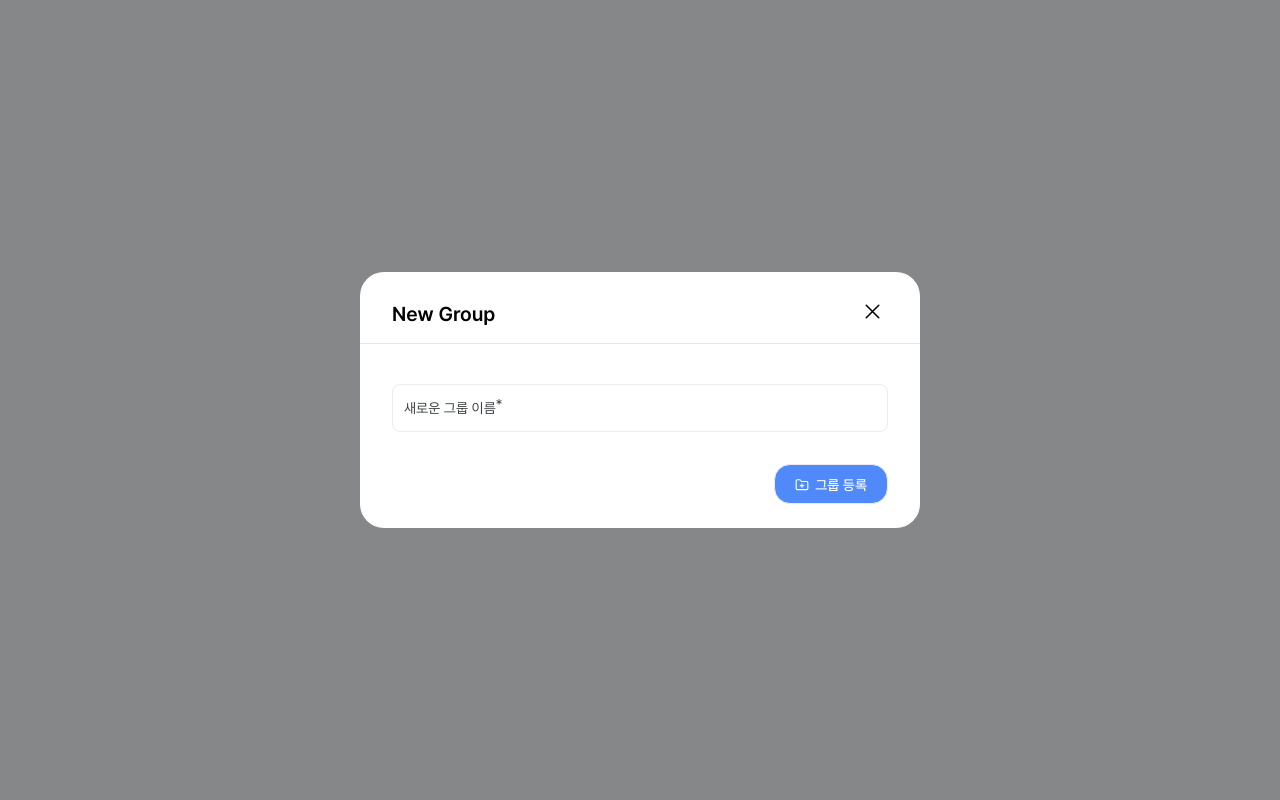
Test: CreateGroup 컴포넌트 단위 테스트 › 서버의 유효성 검사를 통과하지 못하면 에러 메시지가 렌더링 된다.
Type "중복된 그룹 이름" into the field labelled "새로운 그룹 이름".
click(640, 408); type("중복된 그룹 이름")  # box [392, 384, 888, 432]
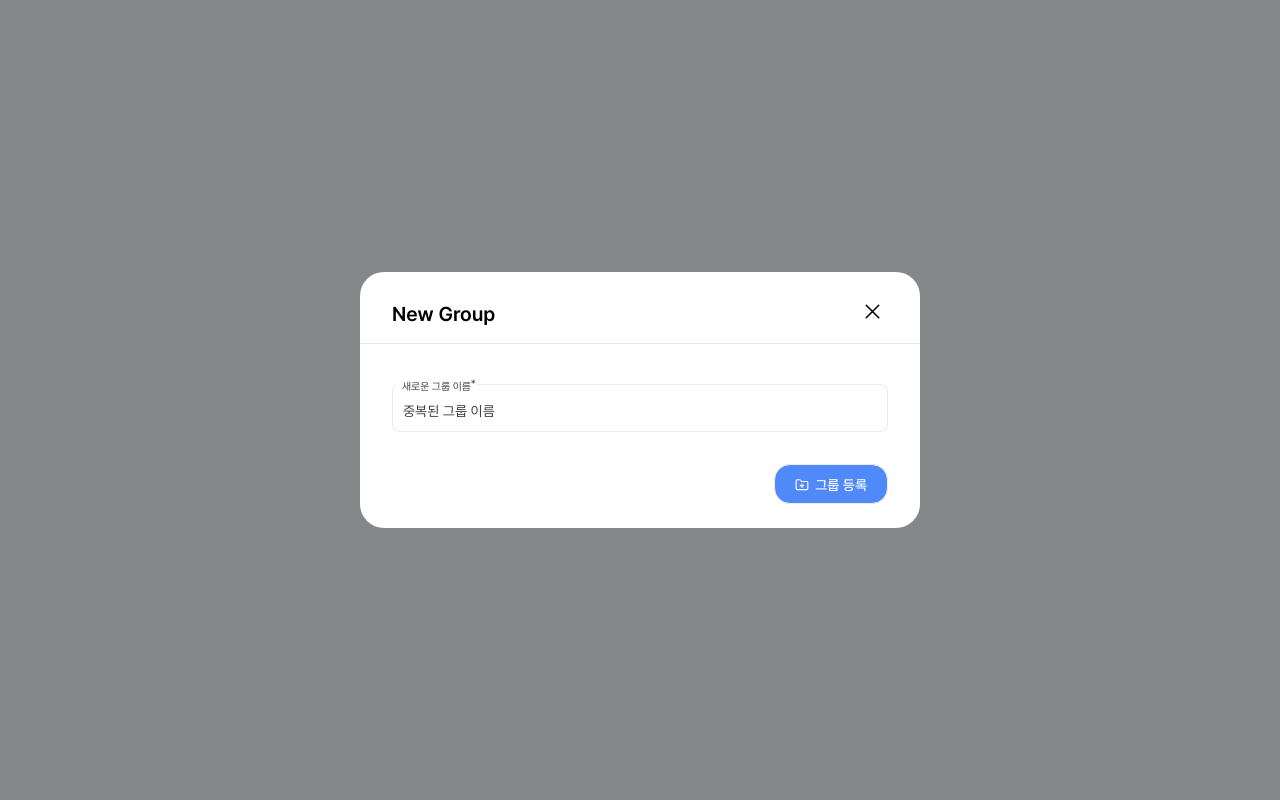
Click the button "그룹 등록".
click(831, 484)  # box [774, 464, 888, 504]
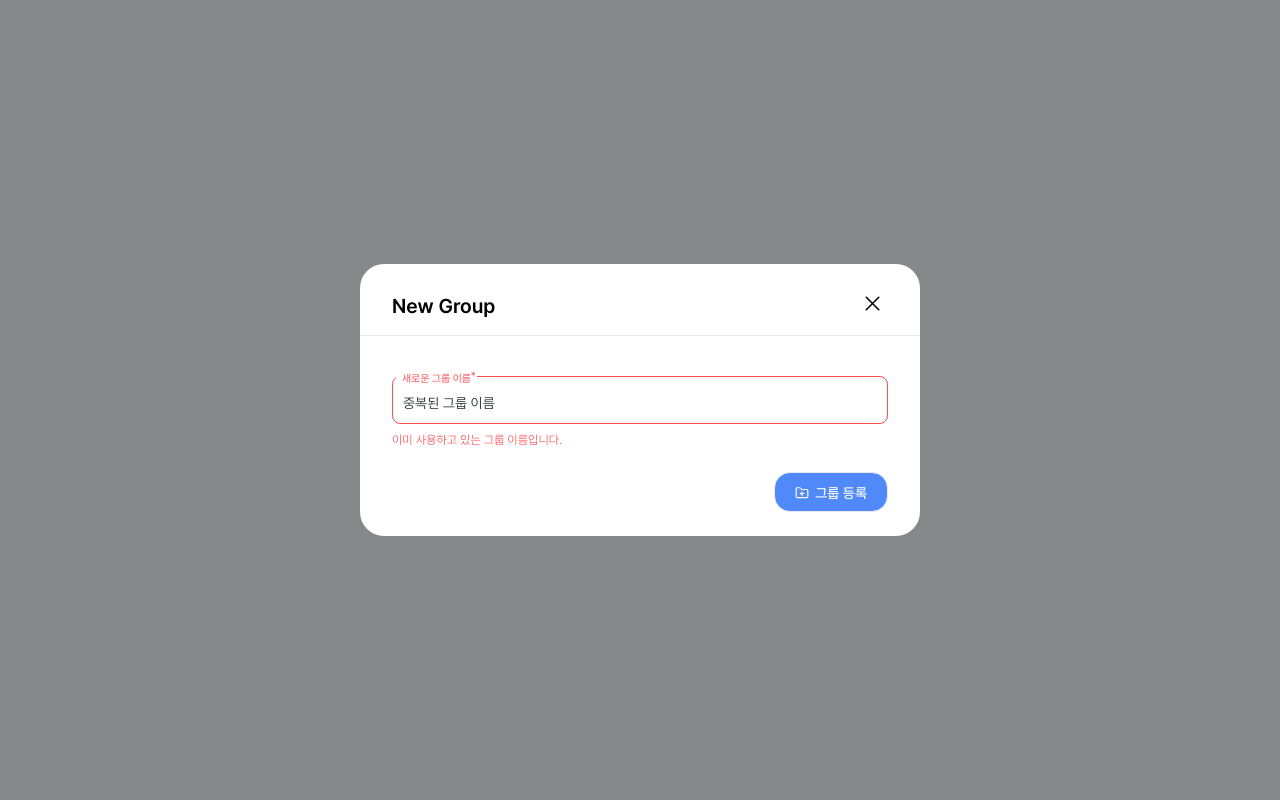
Expected: the text "이미 사용하고 있는 그룹 이름입니다." is shown, [392, 433, 562, 447]
